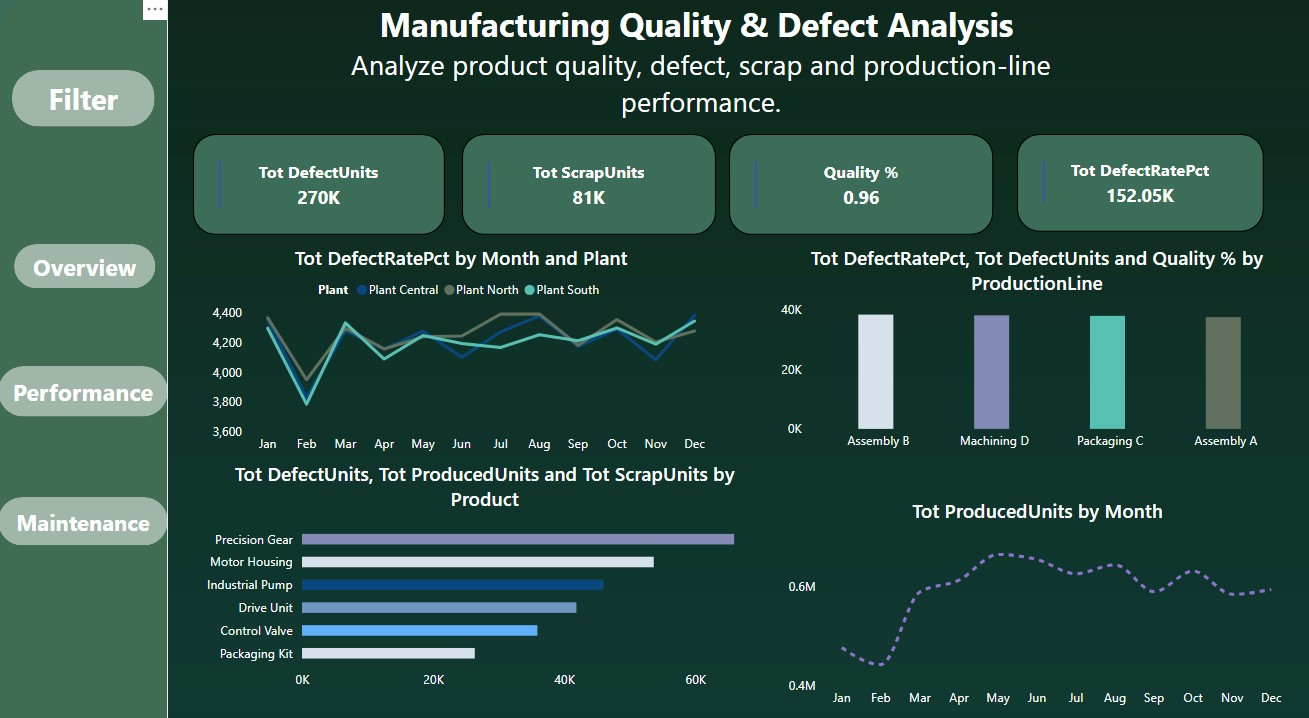

Layout of this report page (visuals, bound fields, positions):
{"tool":"powerbi","page":{"name":"Performance ","canvas":[1280,720],"ordinal":1},"visuals":[{"type":"textbox","box":[281,0,805.2,127.3],"z":0},{"type":"shape","box":[0,0,165.4,719.9],"z":1000},{"type":"cardVisual","fields":{"Data":["Sum(Production_Data.DefectUnits)"]},"box":[189.7,134.3,245,98.3],"z":2000},{"type":"cardVisual","fields":{"Data":["Sum(Production_Data.ScrapUnits)"]},"box":[451.3,134.3,246.7,98.3],"z":3000},{"type":"cardVisual","fields":{"Data":["DateTable.Quality %"]},"box":[711.2,134.3,257.3,98.3],"z":4000},{"type":"clusteredBarChart","fields":{"Category":["Production_Data.Product"],"Y":["Sum(Production_Data.DefectUnits)"]},"box":[189.7,451.3,567.2,231.8],"z":5000},{"type":"clusteredColumnChart","fields":{"Category":["Production_Data.ProductionLine"],"Y":["Sum(Production_Data.DefectRatePct)"]},"box":[756.9,241.5,507.5,209.9],"z":6000},{"type":"lineChart","fields":{"Category":["DateTable.Month"],"Y":["Sum(Production_Data.DefectRatePct)"],"Series":["Production_Data.Plant"]},"box":[203.7,241.5,494.3,212.5],"z":7000},{"type":"cardVisual","fields":{"Data":["Sum(Production_Data.DefectRatePct)"]},"box":[991.3,134.3,239.7,94.8],"z":8000},{"type":"actionButton","box":[14,72,138.7,55.3],"z":9000},{"type":"actionButton","box":[15.4,241.4,137.7,43.1],"z":11000},{"type":"actionButton","box":[0,359.6,165.4,49.3],"z":12000},{"type":"lineChart","fields":{"Category":["DateTable.Month"],"Y":["Sum(Production_Data.ProducedUnits)"]},"box":[763.2,487.1,495.1,213.3],"z":13000},{"type":"actionButton","box":[0,486.9,165.4,47.3],"z":14000}]}

Visuals, with their boxes on the page's 1280x720 design canvas (x1, y1, x2, y2). These are canvas units, not pixel positions in the 1309x718 screenshot, which may show the page scaled, cropped or inside an application window:
textbox: l=281, t=0, r=1086, b=127
shape: l=0, t=0, r=165, b=720
cardVisual - Sum(Production_Data.DefectUnits): l=190, t=134, r=435, b=233
cardVisual - Sum(Production_Data.ScrapUnits): l=451, t=134, r=698, b=233
cardVisual - DateTable.Quality %: l=711, t=134, r=968, b=233
clusteredBarChart - Production_Data.Product x Sum(Production_Data.DefectUnits): l=190, t=451, r=757, b=683
clusteredColumnChart - Production_Data.ProductionLine x Sum(Production_Data.DefectRatePct): l=757, t=242, r=1264, b=451
lineChart - DateTable.Month x Sum(Production_Data.DefectRatePct): l=204, t=242, r=698, b=454
cardVisual - Sum(Production_Data.DefectRatePct): l=991, t=134, r=1231, b=229
actionButton: l=14, t=72, r=153, b=127
actionButton: l=15, t=241, r=153, b=284
actionButton: l=0, t=360, r=165, b=409
lineChart - DateTable.Month x Sum(Production_Data.ProducedUnits): l=763, t=487, r=1258, b=700
actionButton: l=0, t=487, r=165, b=534
